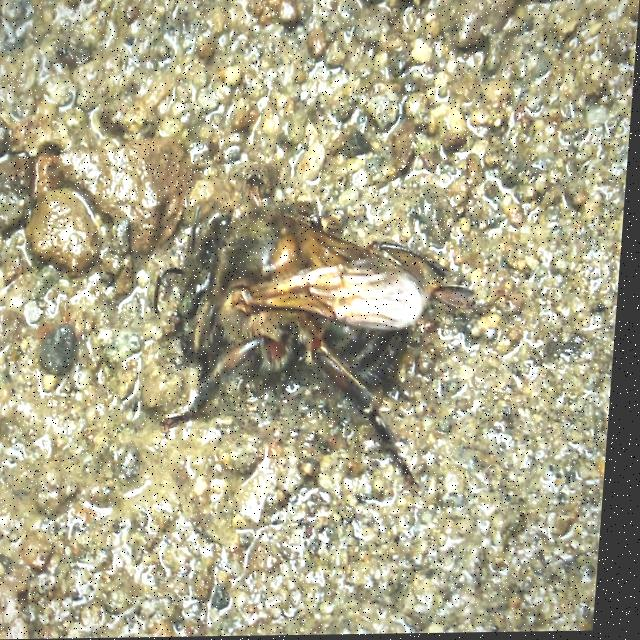Meliponula: (146, 187, 478, 474)
